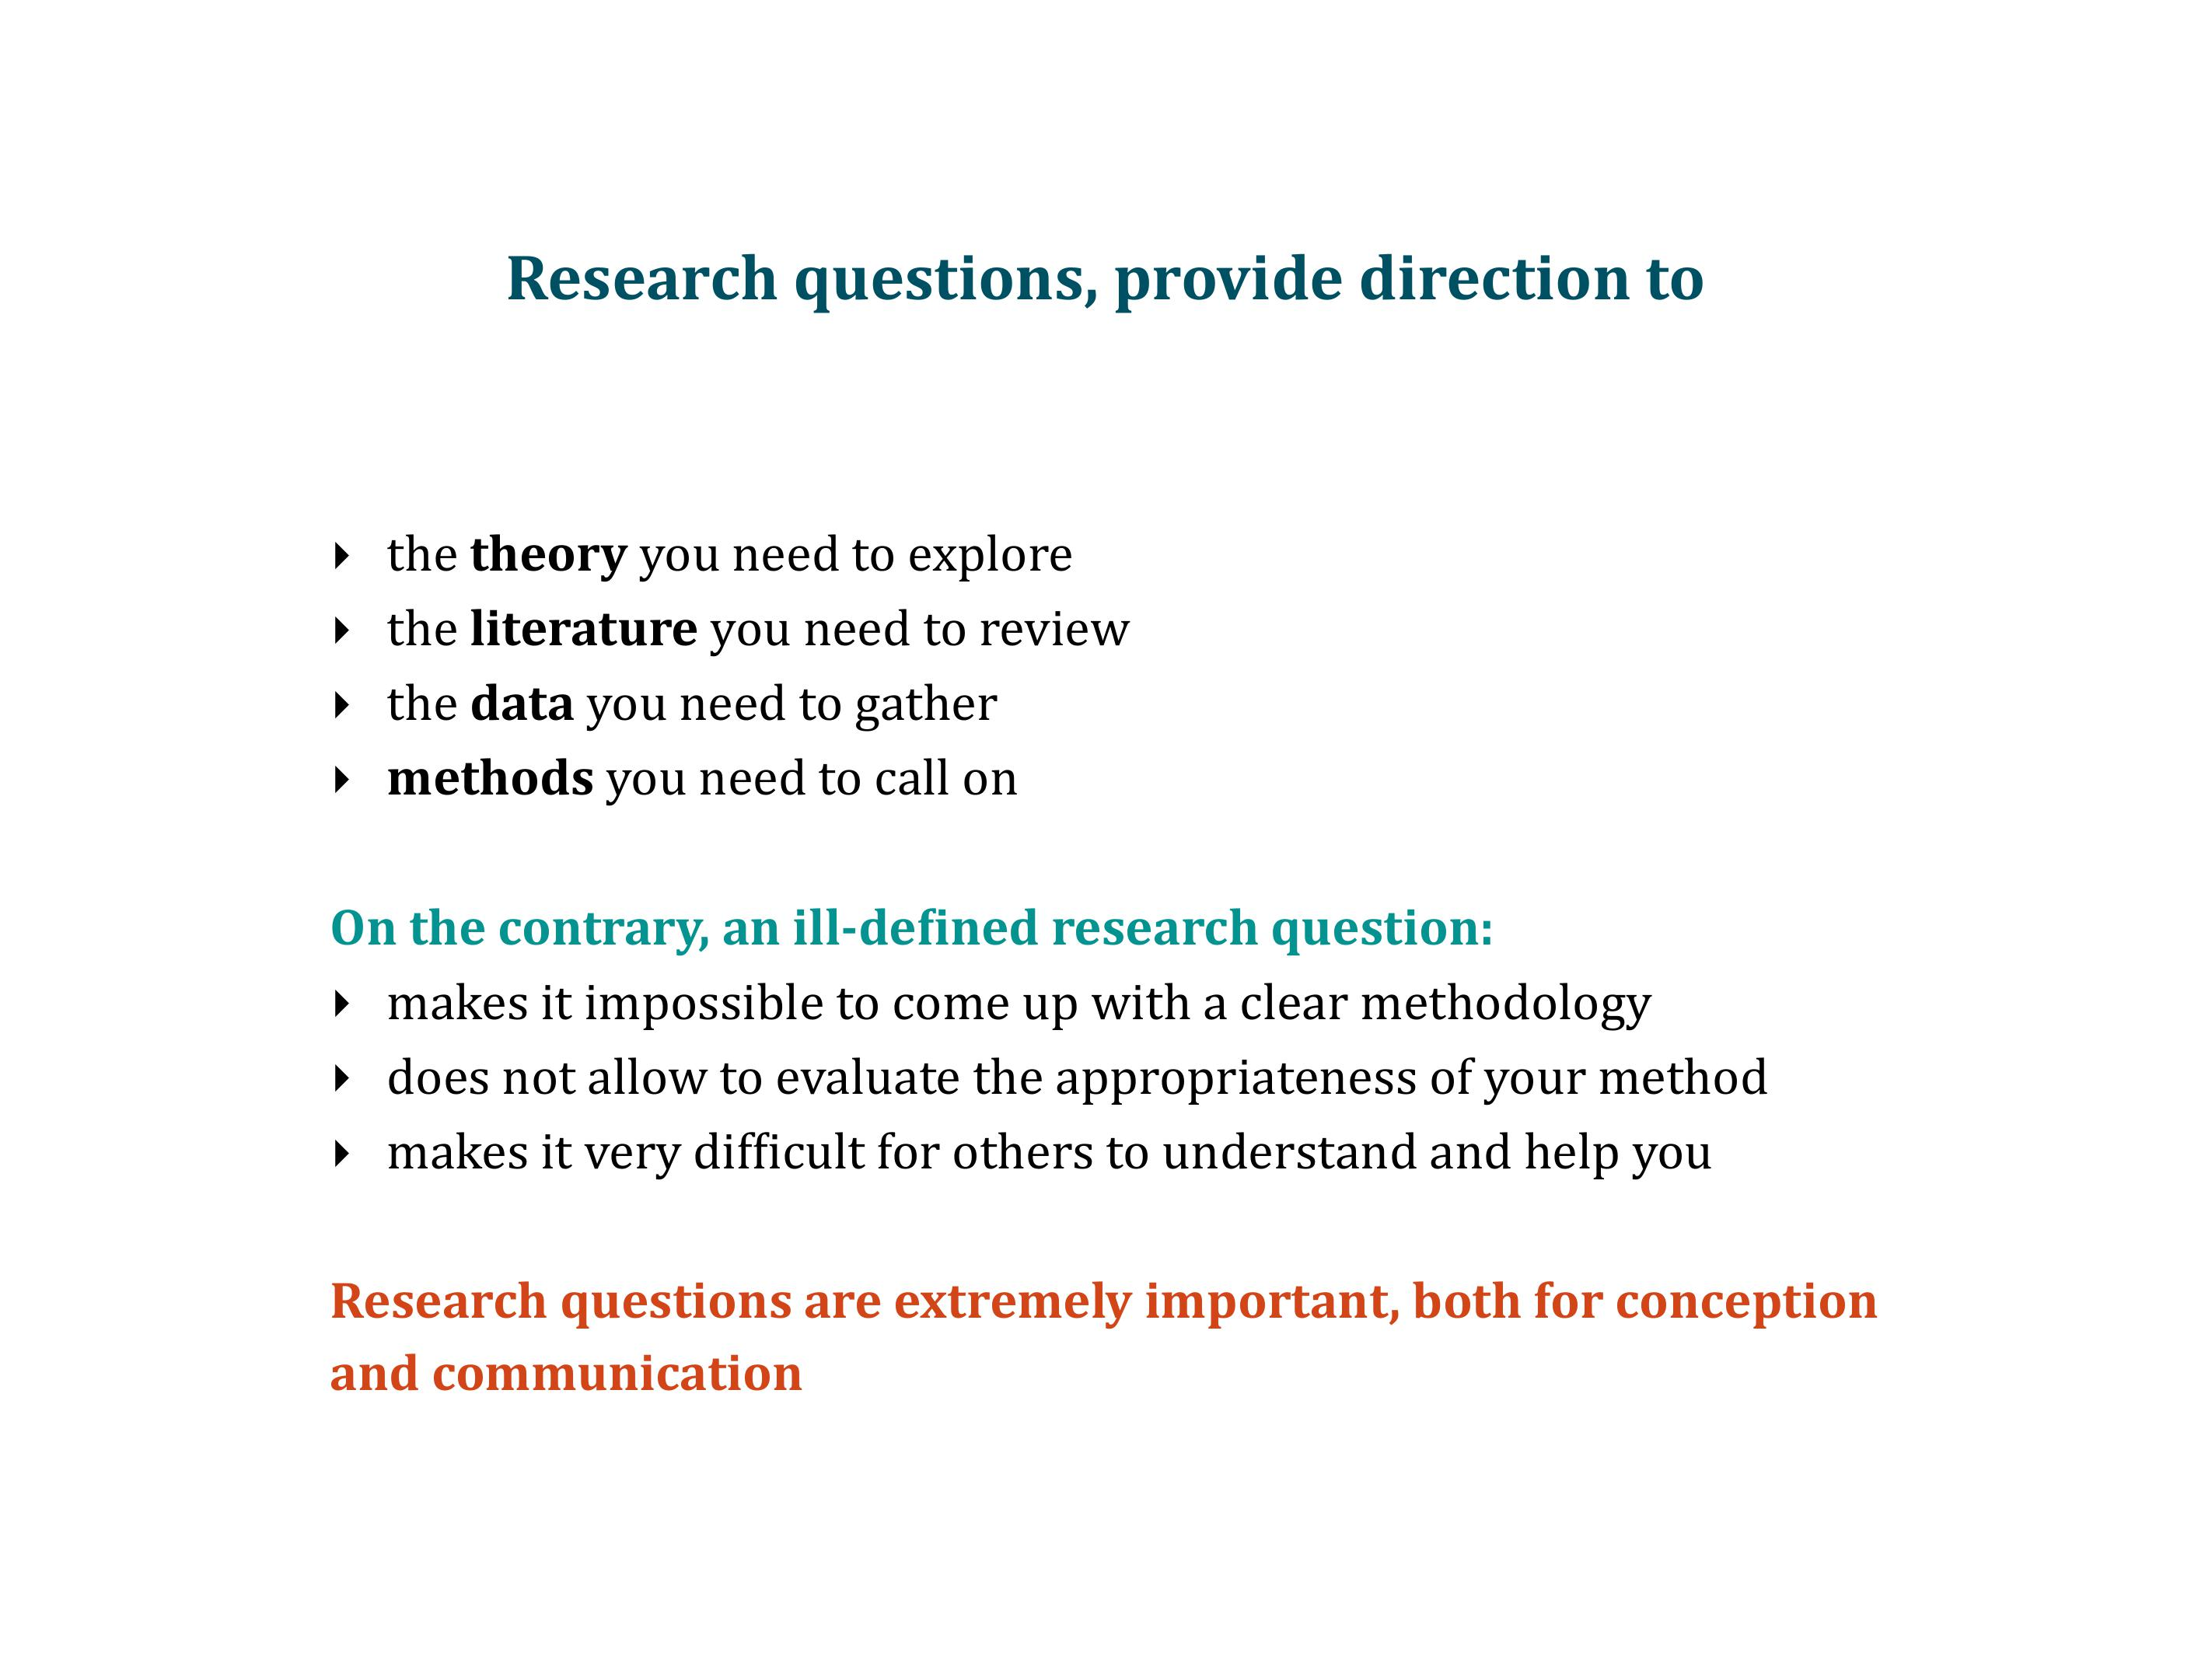Title: (485, 230, 1717, 317)
